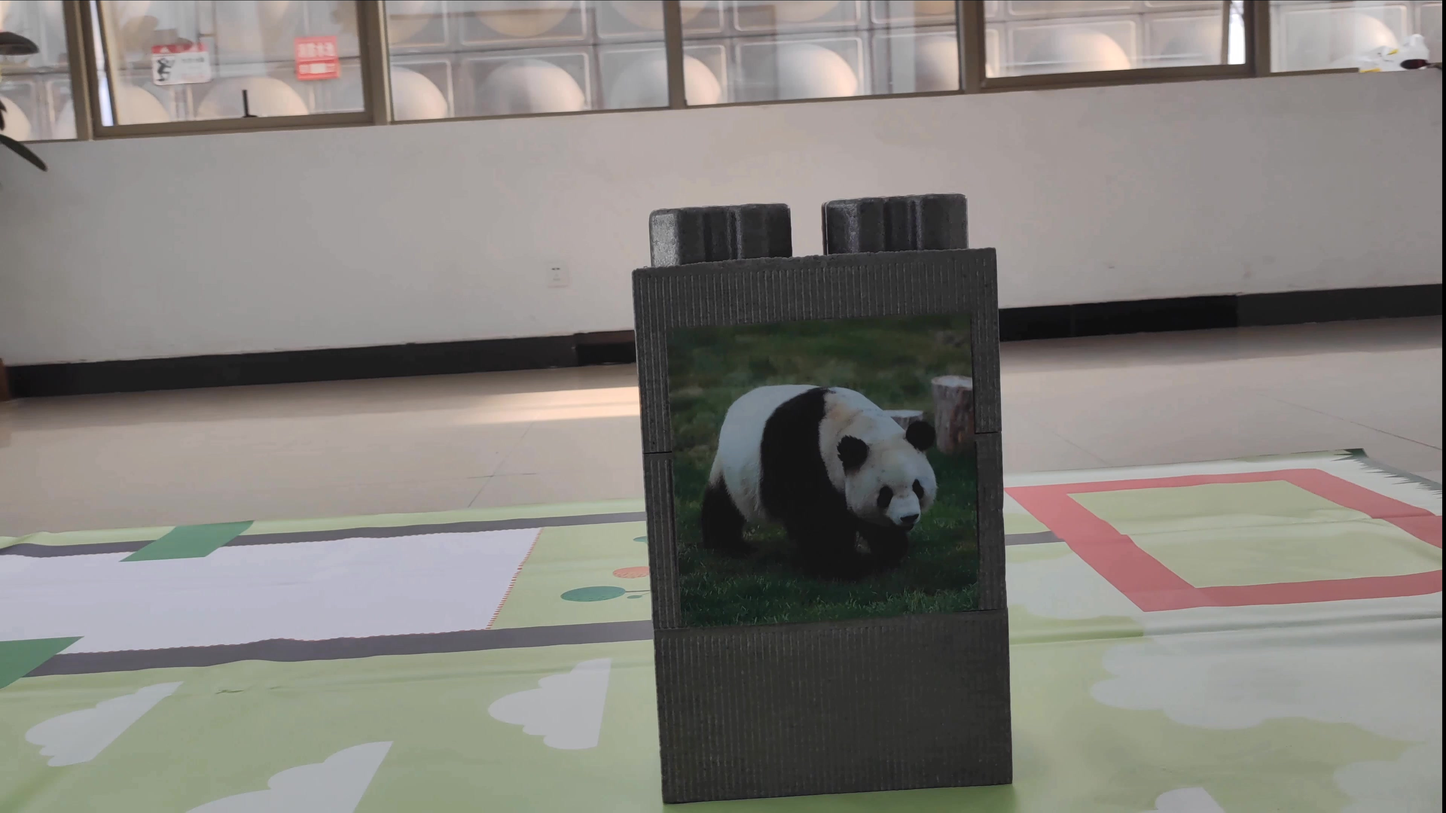panda: (676, 361, 958, 588)
